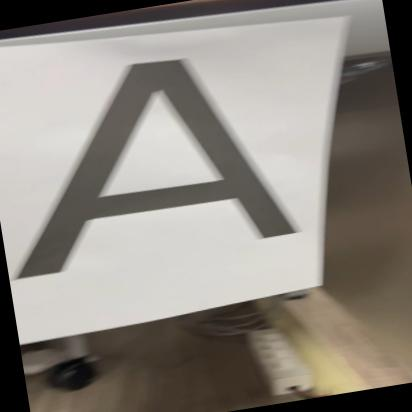seat: (0, 33, 304, 288)
